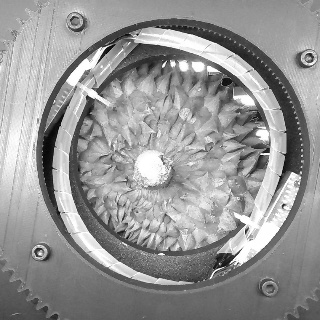base: (131, 147, 176, 190)
end: (135, 150, 172, 187)
